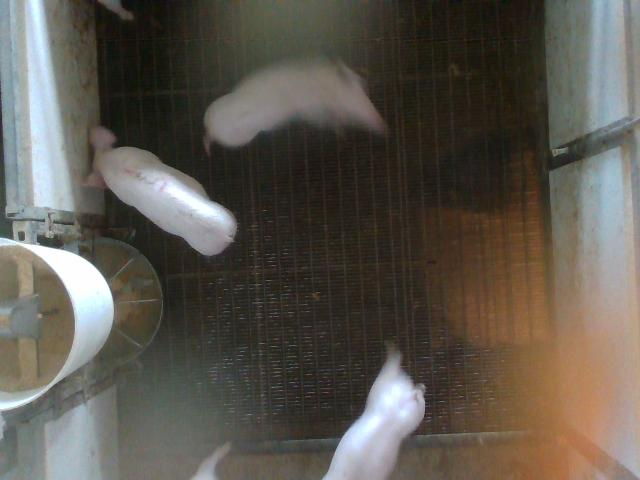pig-3: (85, 126, 236, 256)
